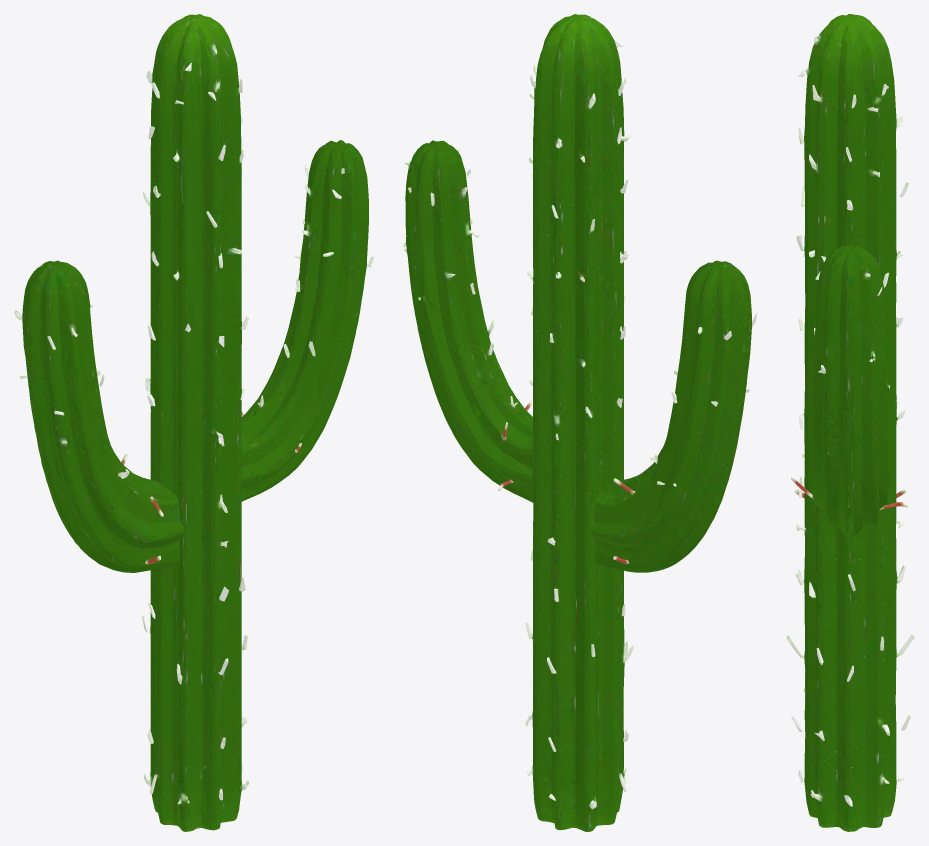
File: cactus-tall.glb
The picture shows the model from 3 angles, left to right: view 1: azimuth 30°, elevation 25°; view 2: azimuth 150°, elevation 25°; view 3: azimuth 270°, elevation 25°; orthographic projection.
Visible parts, largest first — view 1: geometry_0; view 2: geometry_0; view 3: geometry_0.
Part boxes in pixels (left/top/right/bottom): geometry_0: left=14, top=14, right=374, bottom=831; geometry_0: left=403, top=14, right=757, bottom=831; geometry_0: left=786, top=14, right=914, bottom=831.
Size of the model in its own units: 0.4458 by 1 by 0.146.
1 material, 1 textured.
